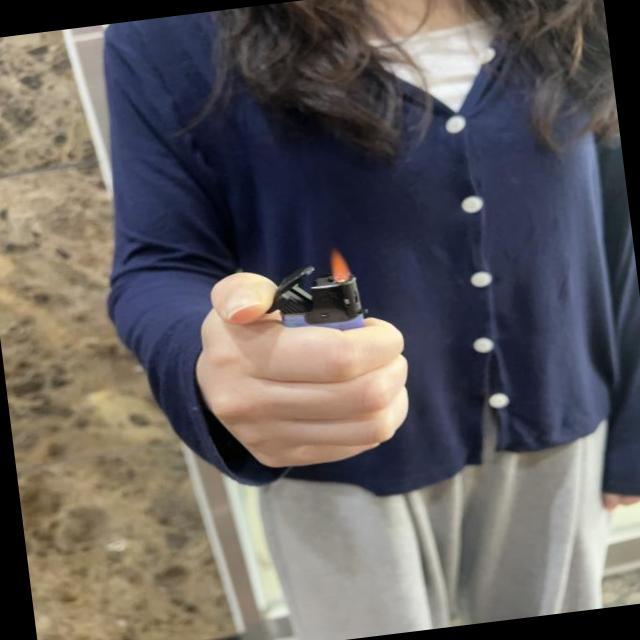Fire: (327, 247, 353, 284)
